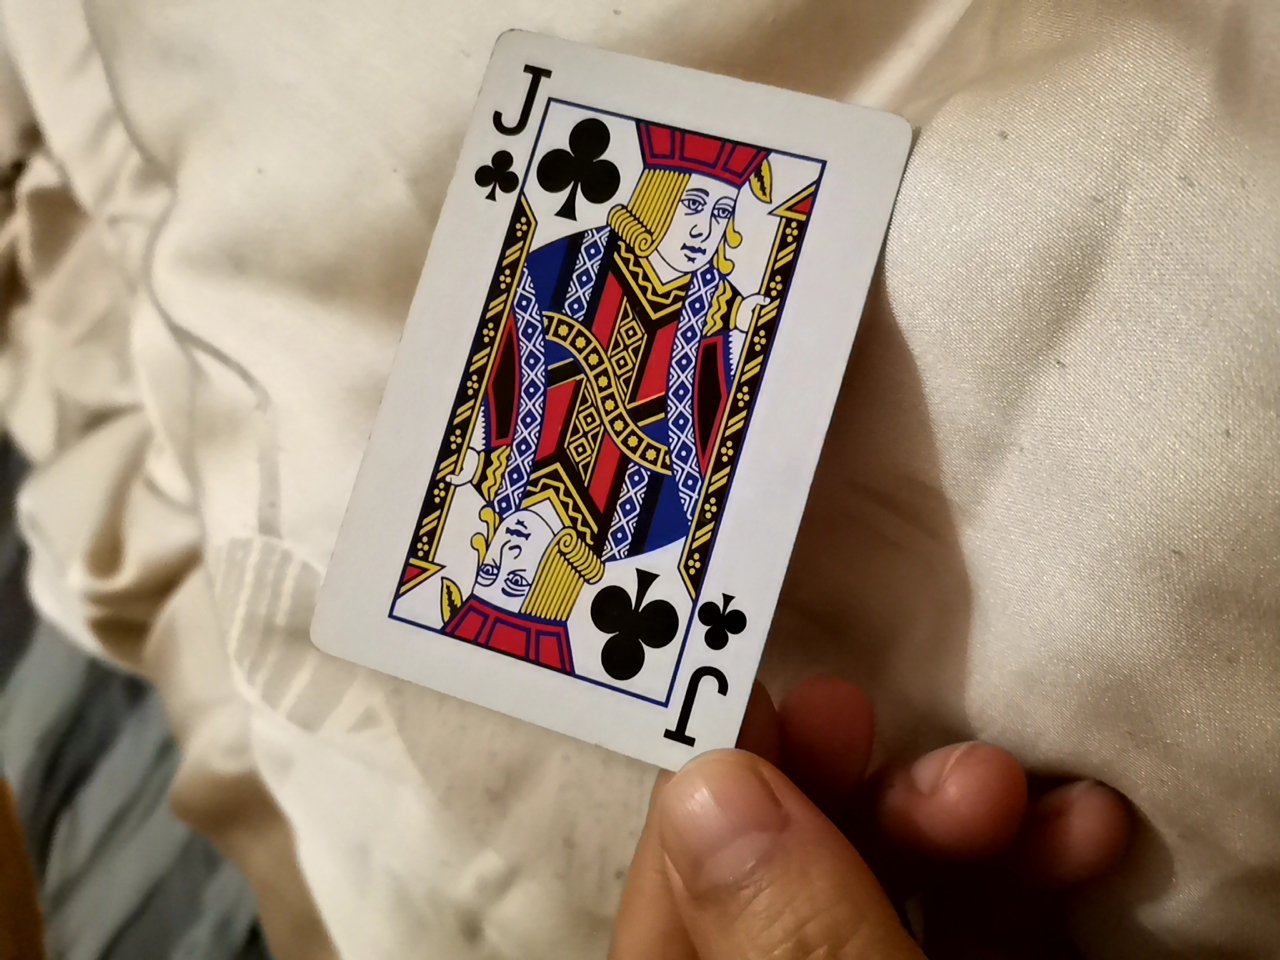mh j: (351, 37, 901, 784)
